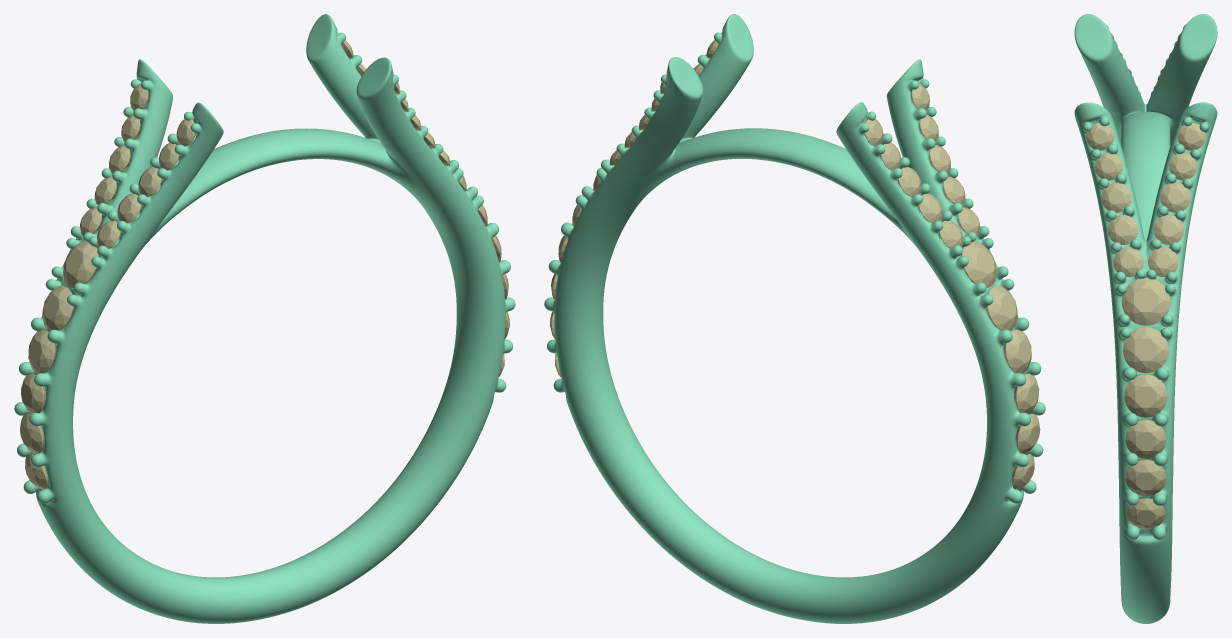
The picture shows the model from 3 angles, left to right: view 1: azimuth 30°, elevation 25°; view 2: azimuth 150°, elevation 25°; view 3: azimuth 270°, elevation 25°; orthographic projection. The views are drawn at different scales.
Visible parts, largest first — view 1: Metal02, Diamond_Gem.026, Diamond_Gem.027, Diamond_Gem.028, Diamond_Gem.030; view 2: Metal02, Diamond_Gem.026, Diamond_Gem.027, Diamond_Gem.028, Diamond_Gem.030; view 3: Metal02, Diamond_Gem.005, Diamond_Gem.004, Diamond_Gem.003, Diamond_Gem.001, Diamond_Gem.002, Diamond_Gem, Diamond_Gem.011, Diamond_Gem.010, Diamond_Gem.006, Diamond_Gem.015, Diamond_Gem.007 (+5 smaller).
Part boxes in pixels (box(x1,y1,x2,y2)): Metal02: box(14, 14, 515, 623); Diamond_Gem.026: box(63, 241, 98, 288); Diamond_Gem.027: box(42, 286, 73, 330); Diamond_Gem.028: box(28, 330, 56, 373); Diamond_Gem.030: box(21, 373, 45, 414); Metal02: box(544, 14, 1045, 623); Diamond_Gem.026: box(961, 241, 996, 287); Diamond_Gem.027: box(986, 285, 1017, 330); Diamond_Gem.028: box(1004, 329, 1031, 373); Diamond_Gem.030: box(1014, 373, 1039, 414); Metal02: box(1074, 14, 1217, 623); Diamond_Gem.005: box(1121, 277, 1170, 325); Diamond_Gem.004: box(1123, 327, 1168, 373); Diamond_Gem.003: box(1124, 374, 1167, 417); Diamond_Gem.001: box(1125, 419, 1166, 458); Diamond_Gem.002: box(1125, 459, 1166, 496); Diamond_Gem: box(1127, 498, 1165, 529); Diamond_Gem.011: box(1160, 182, 1190, 212); Diamond_Gem.010: box(1101, 182, 1131, 212); Diamond_Gem.006: box(1107, 215, 1138, 244); Diamond_Gem.015: box(1153, 215, 1184, 244); Diamond_Gem.007: box(1113, 247, 1143, 276).
Size of the model in its own units: 21.31 by 23.36 by 5.6.
